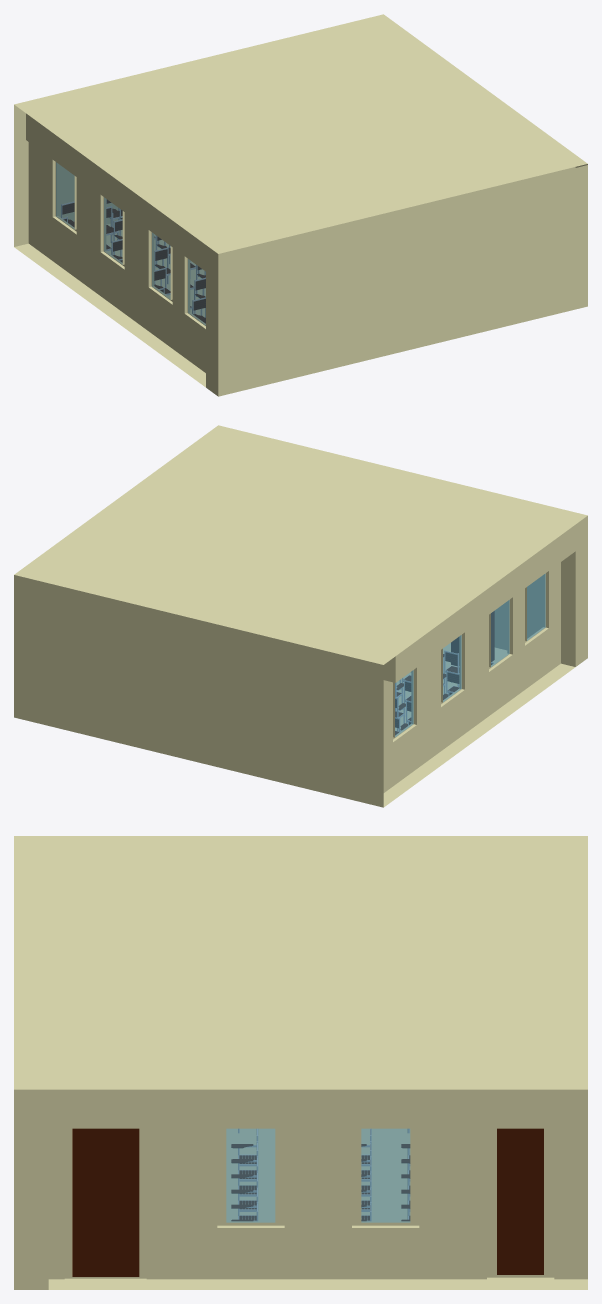
File: class.glb
3 renders of one model, top to bottom at view 1: azimuth 30°, elevation 25°; view 2: azimuth 150°, elevation 25°; view 3: azimuth 270°, elevation 25°, orthographic. The views are drawn at different scales.
Visible parts, largest first — view 1: Cube, Cube.002; view 2: Cube, Cube.002; view 3: Cube, Cube.002.
Part boxes in pixels (x1,y1,x2,y2): Cube: (14,14,587,396); Cube.002: (61,199,205,323); Cube: (14,425,587,807); Cube.002: (395,650,493,734); Cube: (14,836,587,1289); Cube.002: (231,1129,409,1220).
Bounding box in the file's own units: 32.13 × 11.85 × 30.76.
